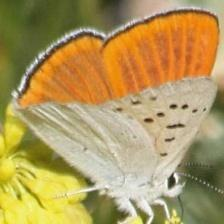butterfly: (13, 8, 220, 224)
